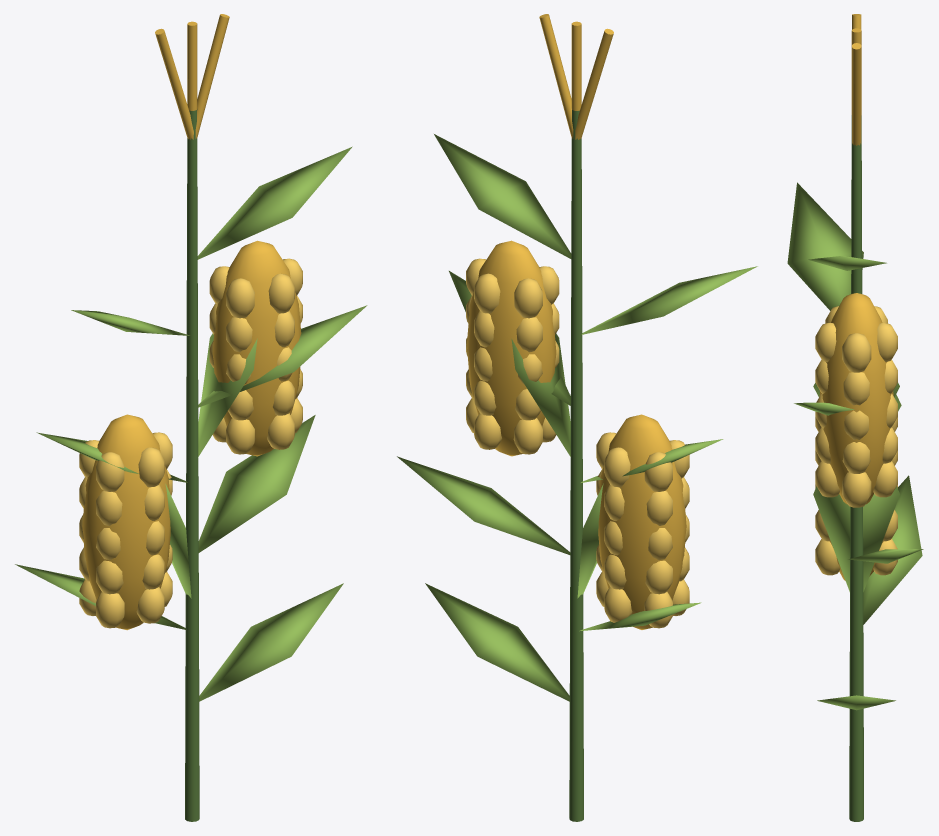
Rendered from crop_5_stage_3.fbx.
3 renders of one model, left to right at view 1: azimuth 30°, elevation 25°; view 2: azimuth 150°, elevation 25°; view 3: azimuth 270°, elevation 25°, orthographic.
Parts seen in each view (by area): view 1: crop_5_stage_3; view 2: crop_5_stage_3; view 3: crop_5_stage_3.
Part boxes in pixels (left/top/right/bottom): crop_5_stage_3: left=15, top=14, right=367, bottom=821; crop_5_stage_3: left=397, top=14, right=757, bottom=821; crop_5_stage_3: left=787, top=14, right=923, bottom=821.
Bounding box in the file's own units: 0.5591 × 1.4 × 0.2201.
Materials: 1 (1 with a texture image).
